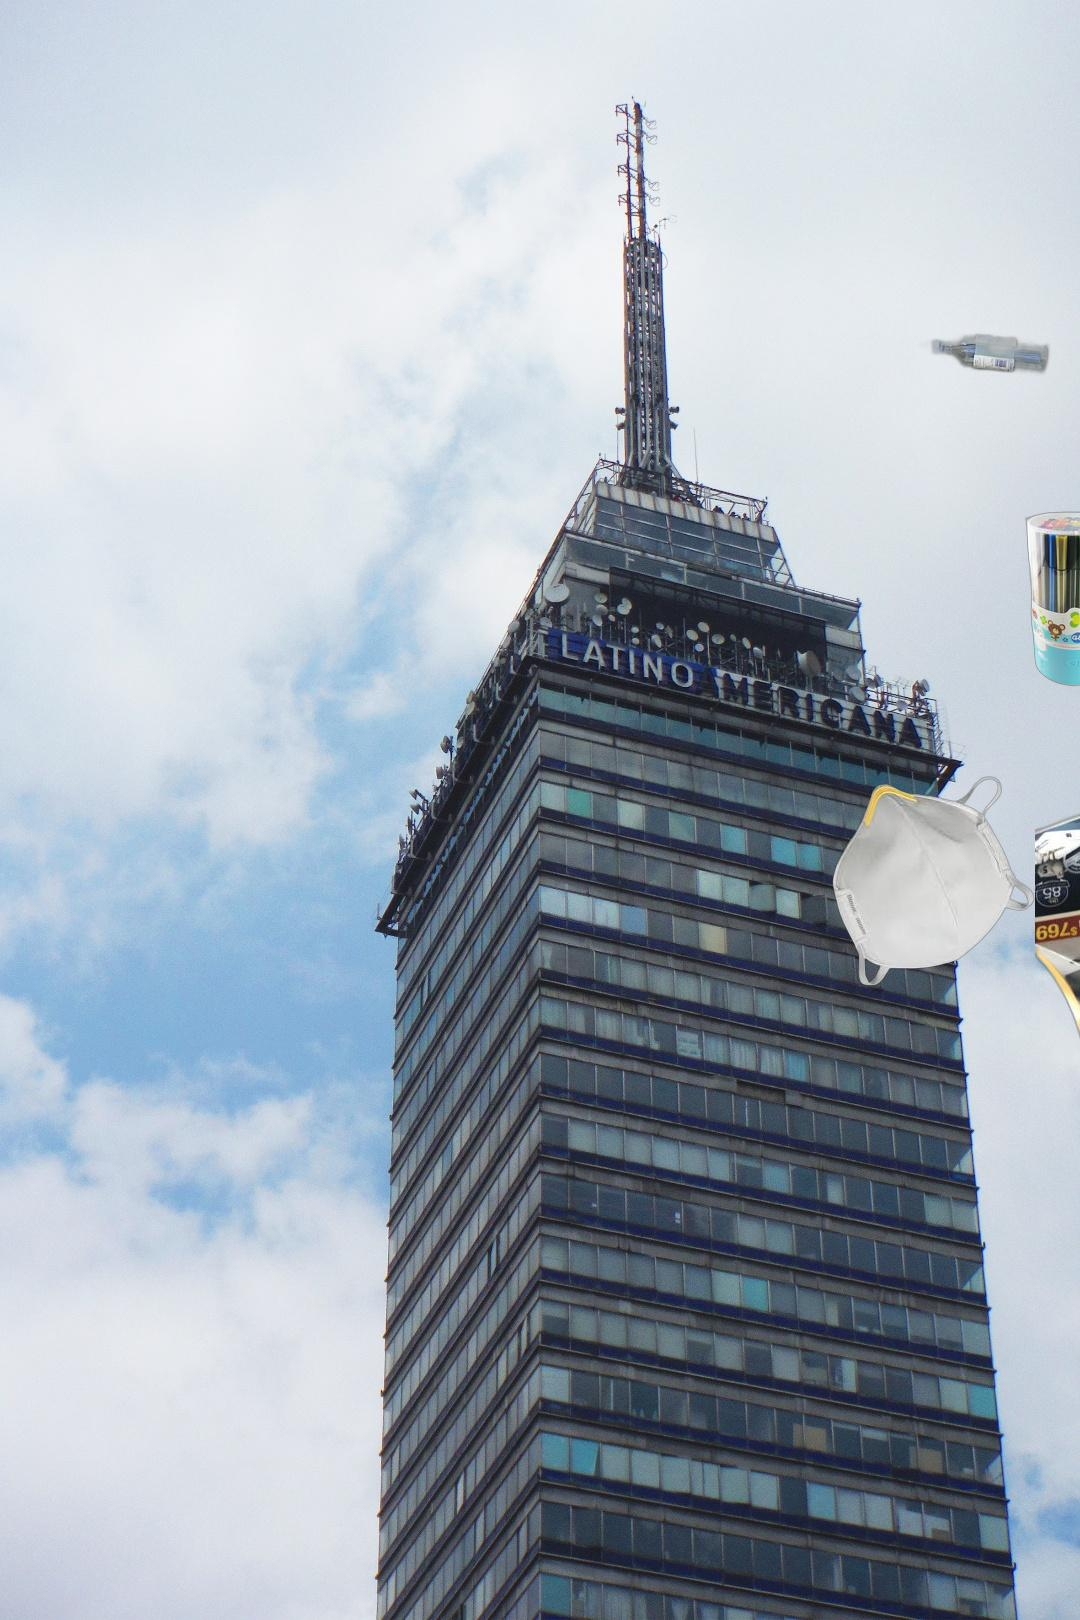glass: (917, 328, 1053, 378)
paper: (1035, 783, 1080, 1155)
penholder: (981, 509, 1080, 698)
trash: (800, 775, 1035, 987)
